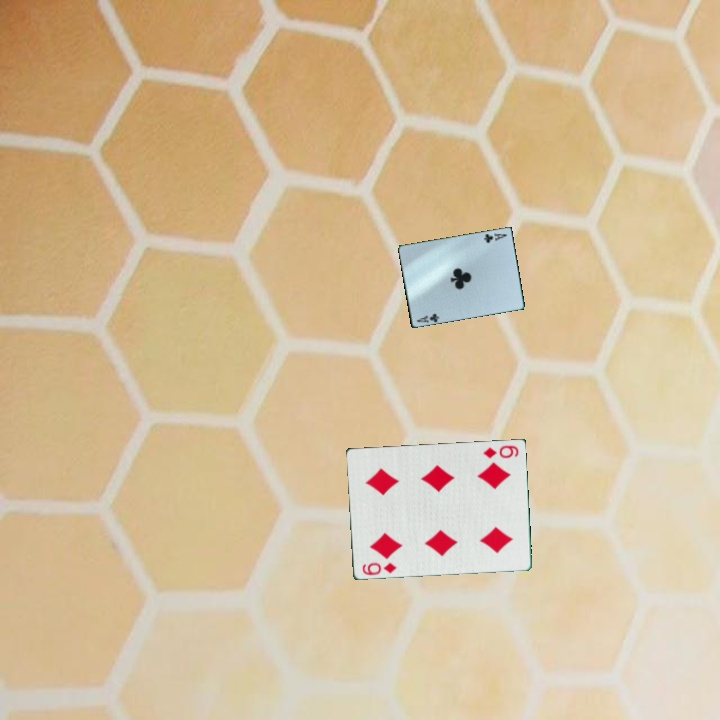6d: (479, 442, 521, 462), (358, 559, 399, 578)
Ac: (413, 310, 441, 326), (480, 230, 509, 245)
